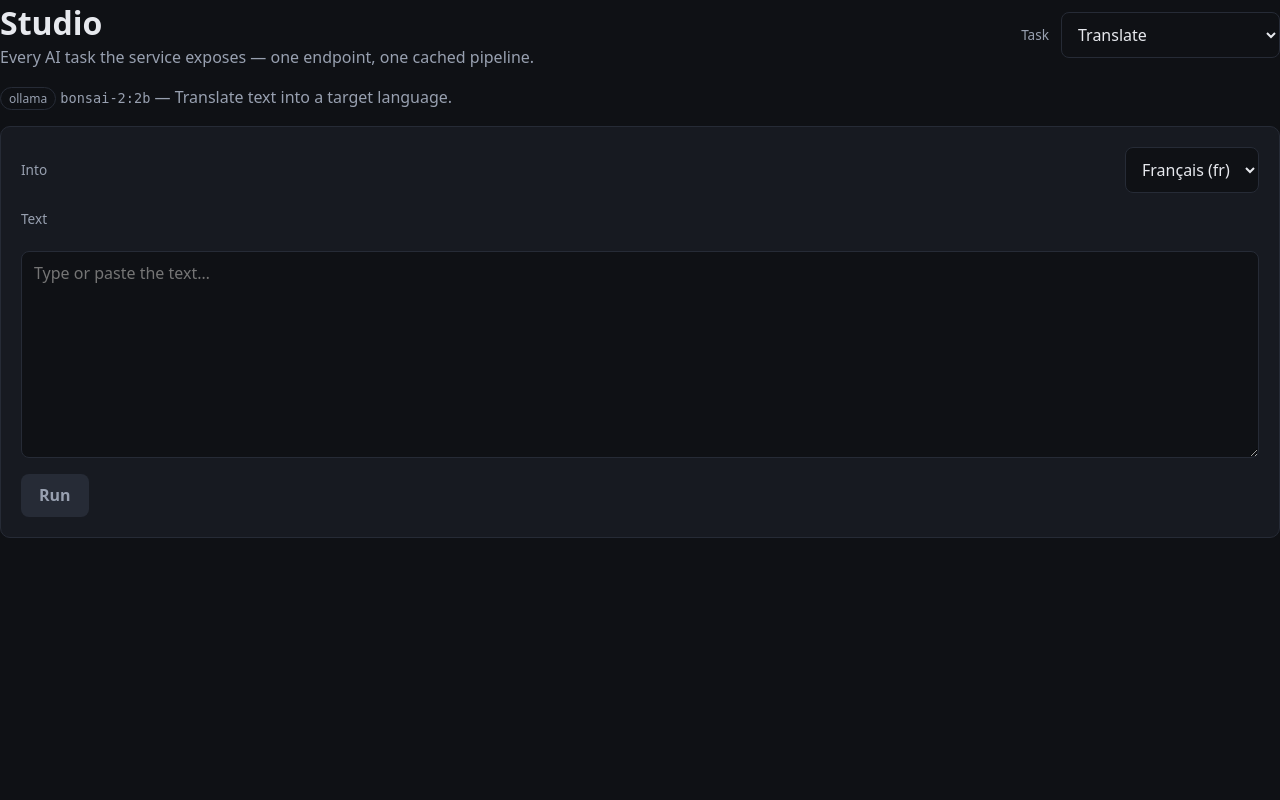
Test case: Studio › resets the result when the selected task changes
The width and height of the screenshot is (1280, 800).
Type "Hello" into the text box labelled "Text" at point(640, 354), box [21,251,1259,458]
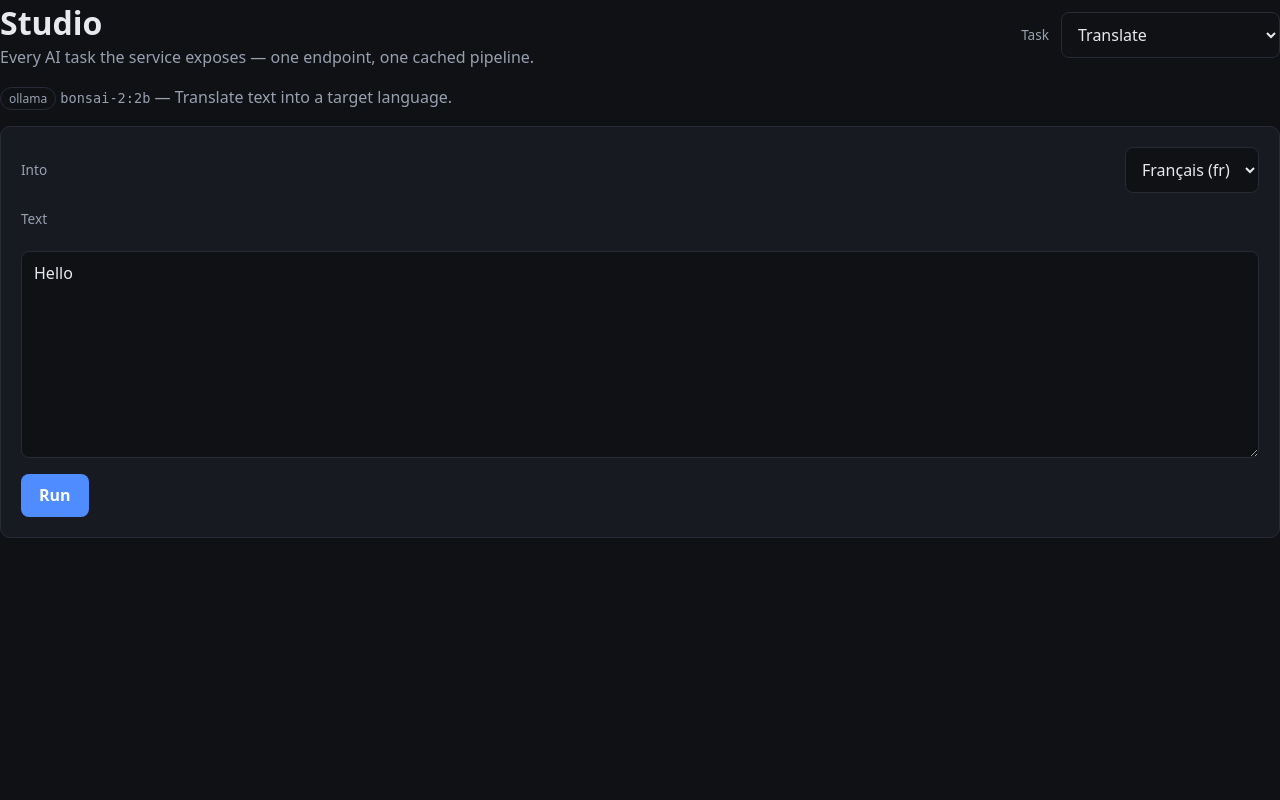
Click the button "Run" at point(55, 496), box [21,474,89,517]
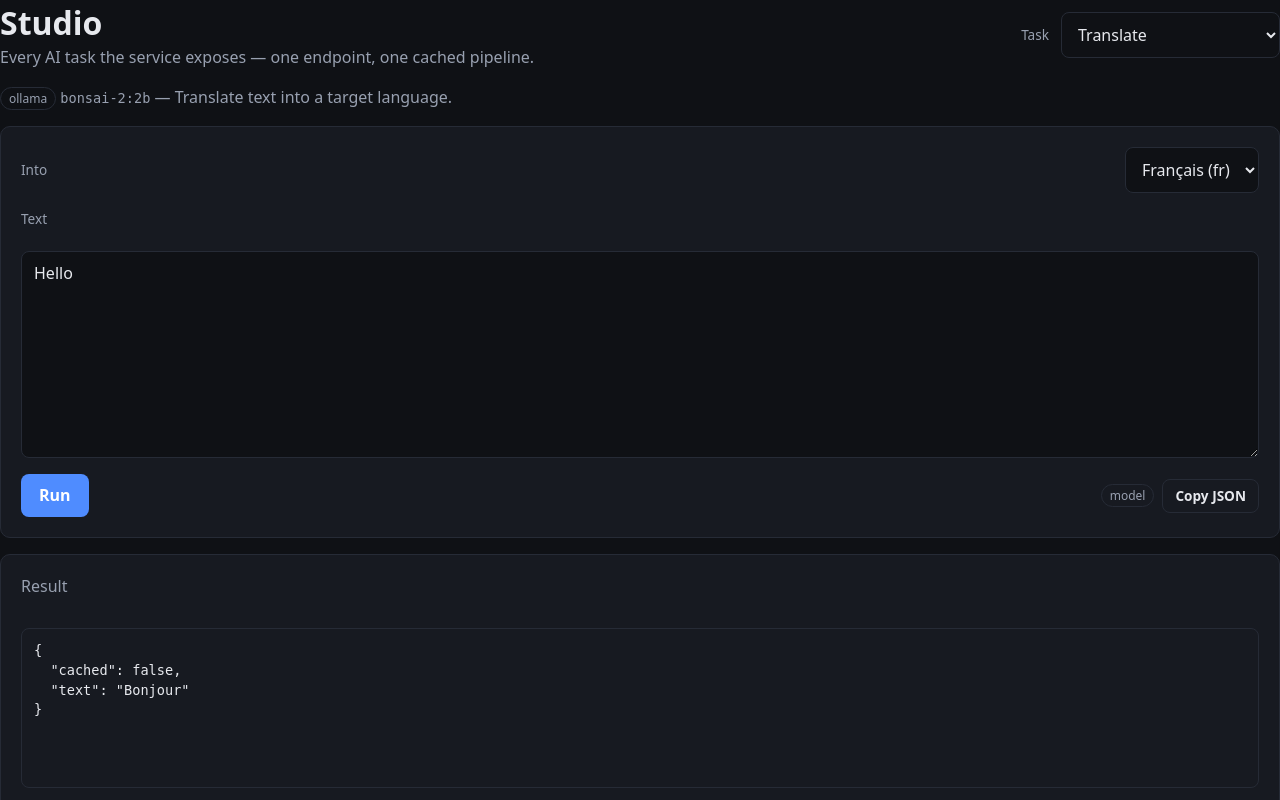
Select "Sentiment" in the dropdown labelled "Task" at point(1170, 35), box [1061,12,1279,58]
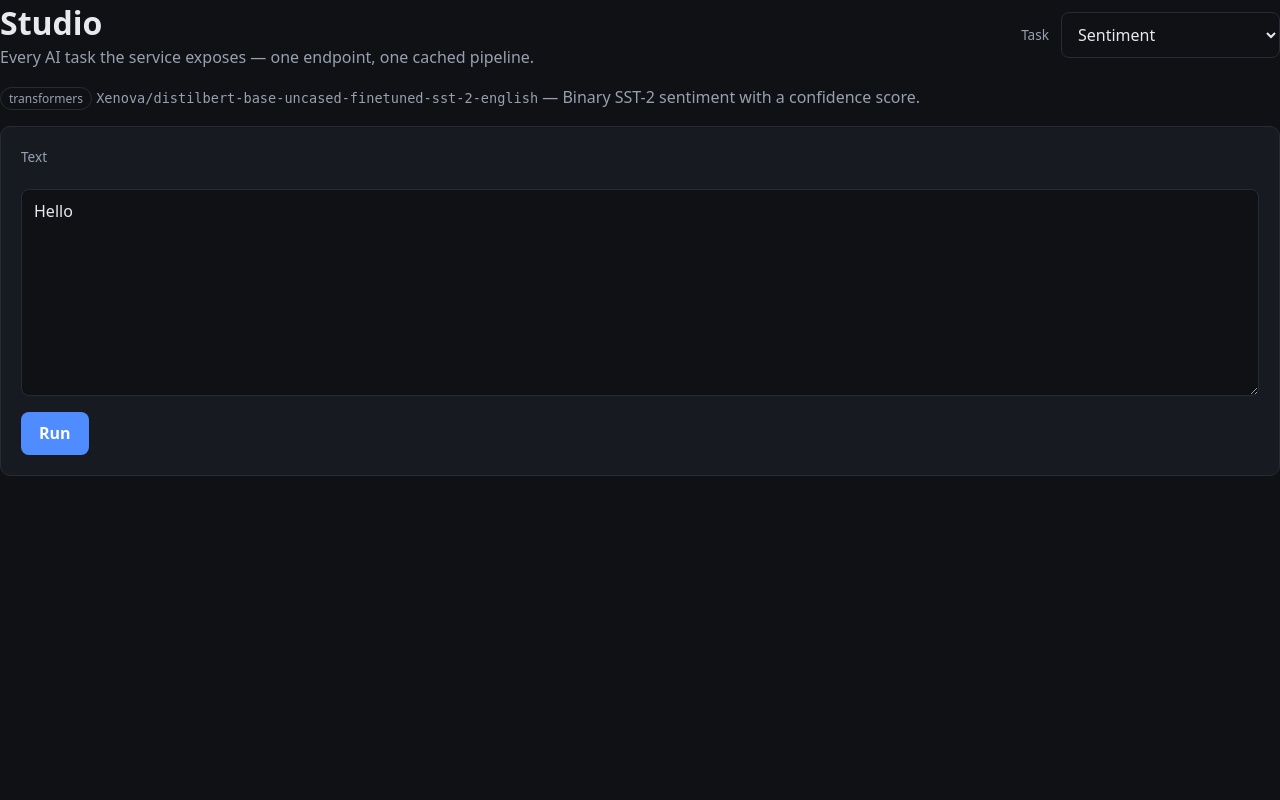
Expected: the button "Run" is shown, [21,412,89,455]
Result: the text "Result" is gone
